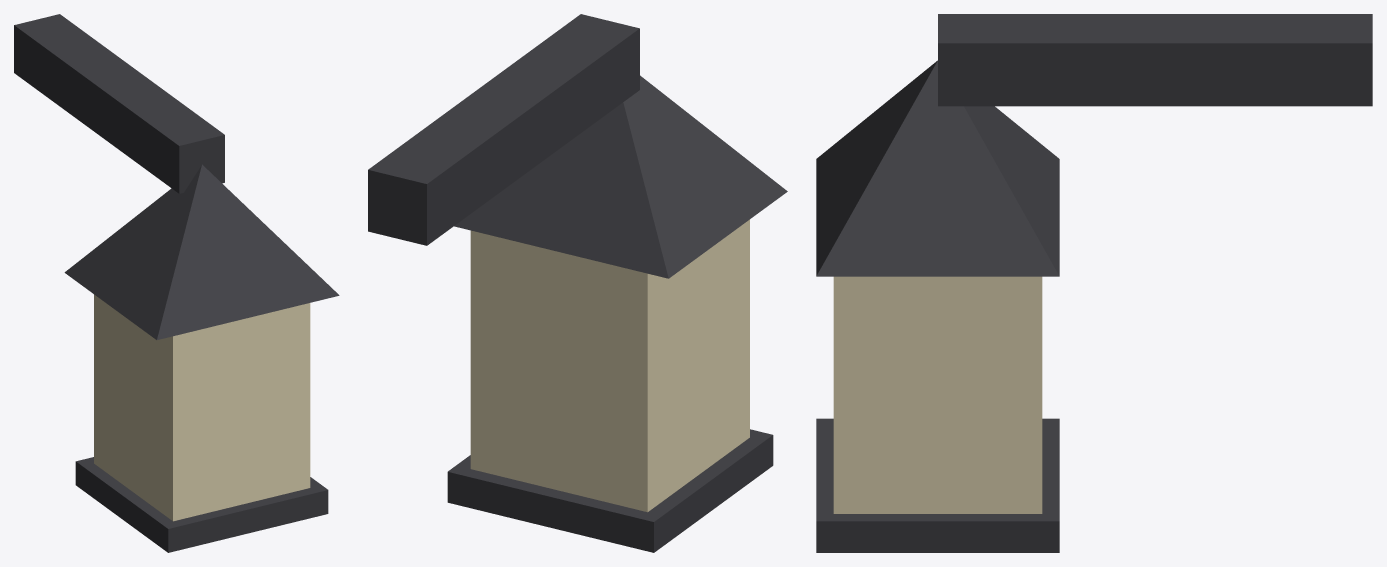
File: Lantern.fbx
3 views of the same model, side by side, from view 1: azimuth 30°, elevation 25°; view 2: azimuth 150°, elevation 25°; view 3: azimuth 270°, elevation 25° (orthographic). The views are drawn at different scales.
Visible parts, largest first — view 1: Kit_Lantern; view 2: Kit_Lantern; view 3: Kit_Lantern.
Part boxes in pixels (bbox=[...]): Kit_Lantern: bbox=[14, 14, 339, 552]; Kit_Lantern: bbox=[368, 14, 787, 552]; Kit_Lantern: bbox=[816, 14, 1372, 552].
Bounding box in the file's own units: 0.16 × 0.3 × 0.32.
